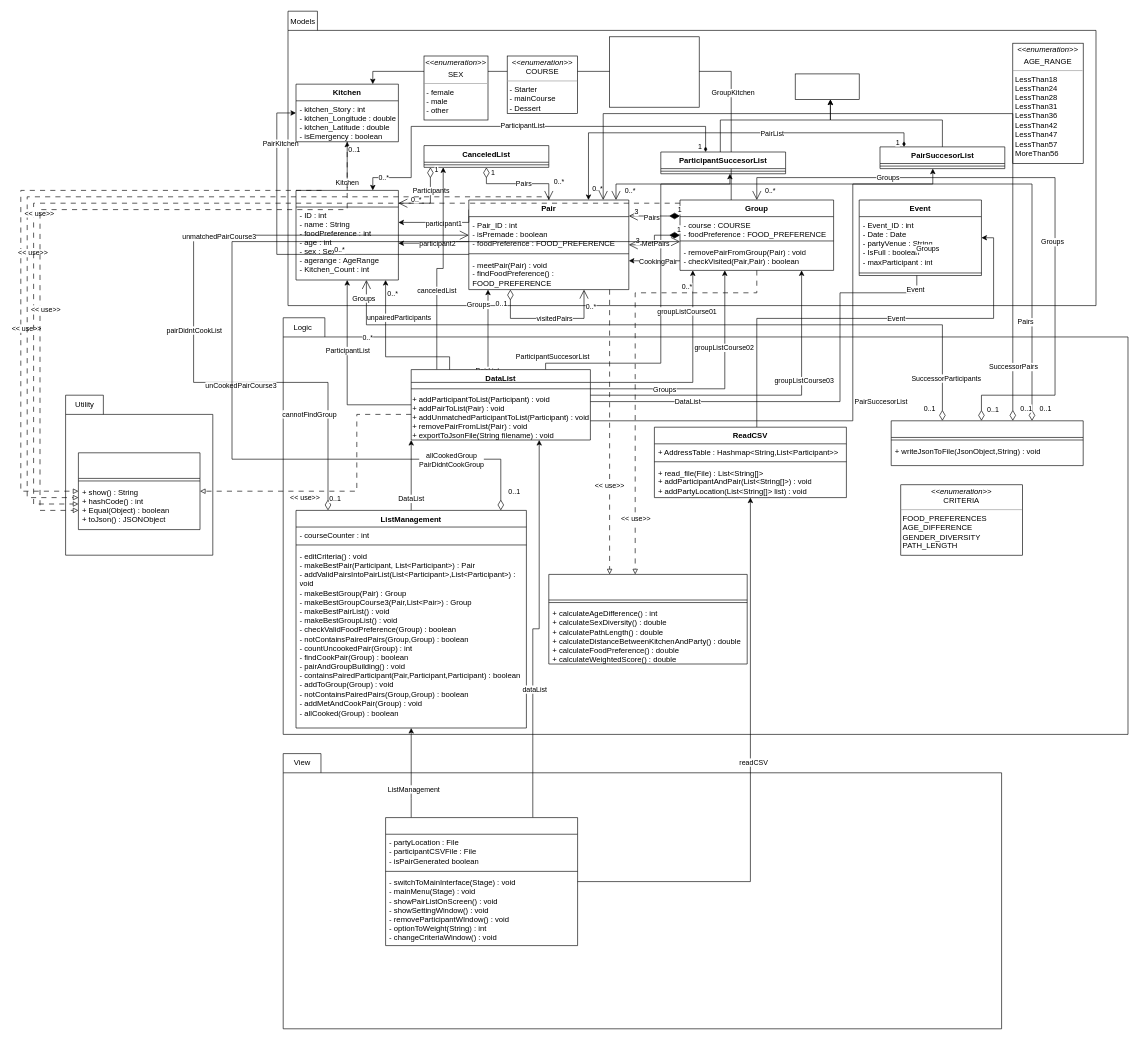
Image size: 1139x1040. Some labels were removed from this diagram. The box of each missing label's shape, as (x1, y1, x2, y2) in pixels:
<<enumeration>> FOOD_PREFERENCE - meat - none - veggie - vegan: (609, 36, 699, 107)
<<interface>> Calculation: (548, 574, 747, 664)
<<interface>> Utility: (78, 452, 200, 530)
JsonExport: (891, 420, 1083, 466)
ListVisualization: (385, 817, 578, 946)
Participant: (295, 190, 398, 280)
«abstract» SuccesorList: (795, 73, 859, 100)
